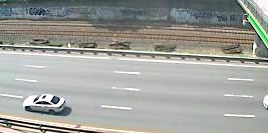car: (21, 92, 70, 116)
